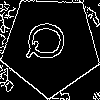Q: (25, 20, 74, 62)
